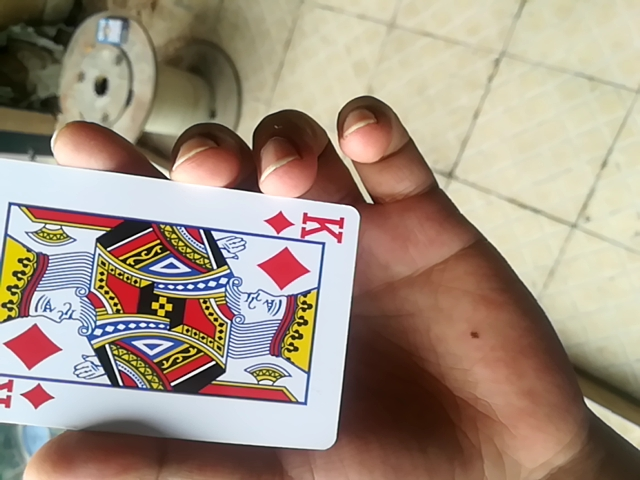fk k: (2, 144, 369, 456)
